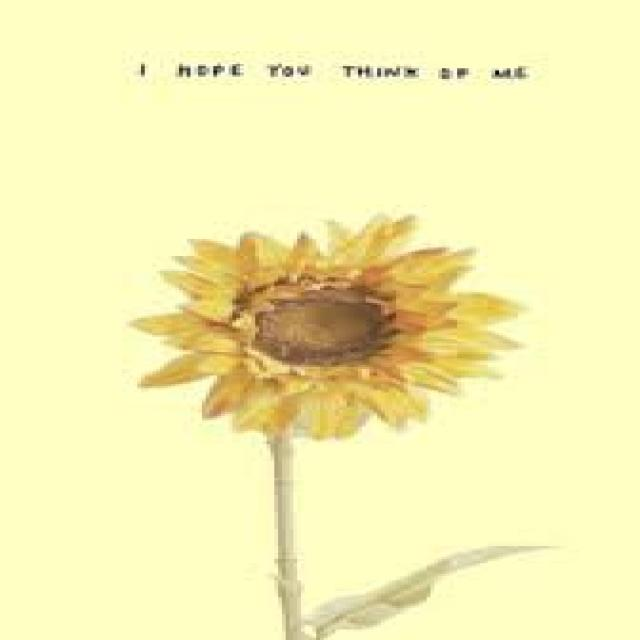sunflower: (125, 211, 526, 442)
